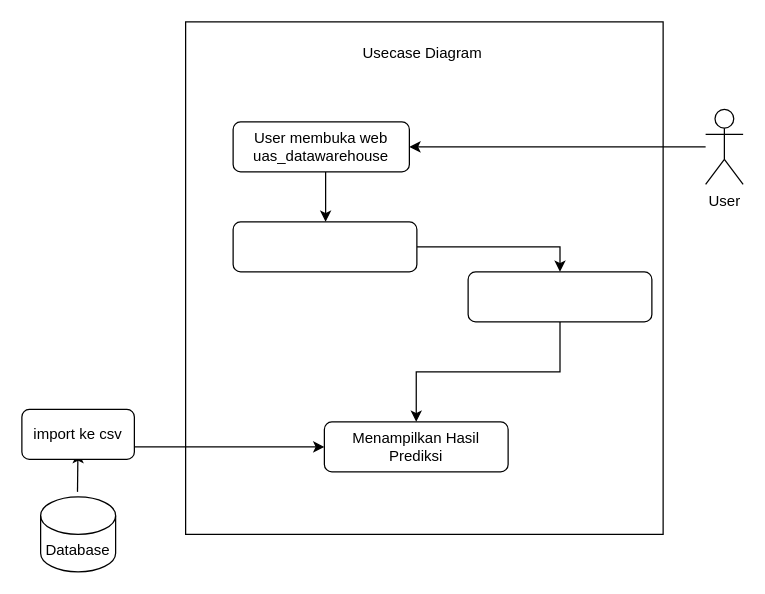
The diagram is 765 pixels wide and 594 high, and some of its shapes have lost their labels. The centre of each missing label's shape, as x and y in pixels:
Masukkan Tahun: the point at 559,296
Web menampilkan halaman: the point at 324,246
